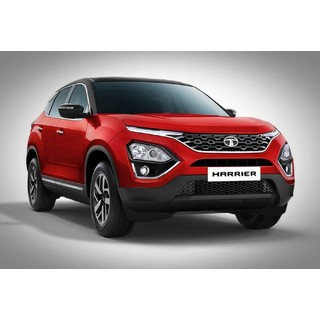car: (25, 78, 298, 237)
